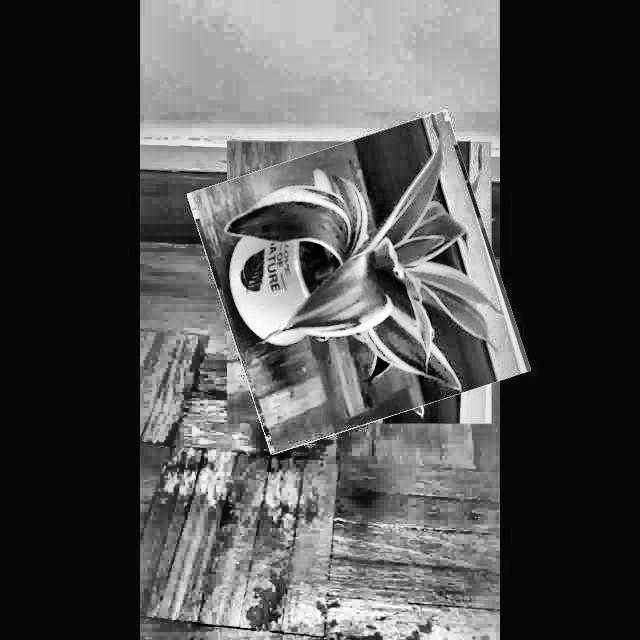plants: (204, 128, 514, 437)
